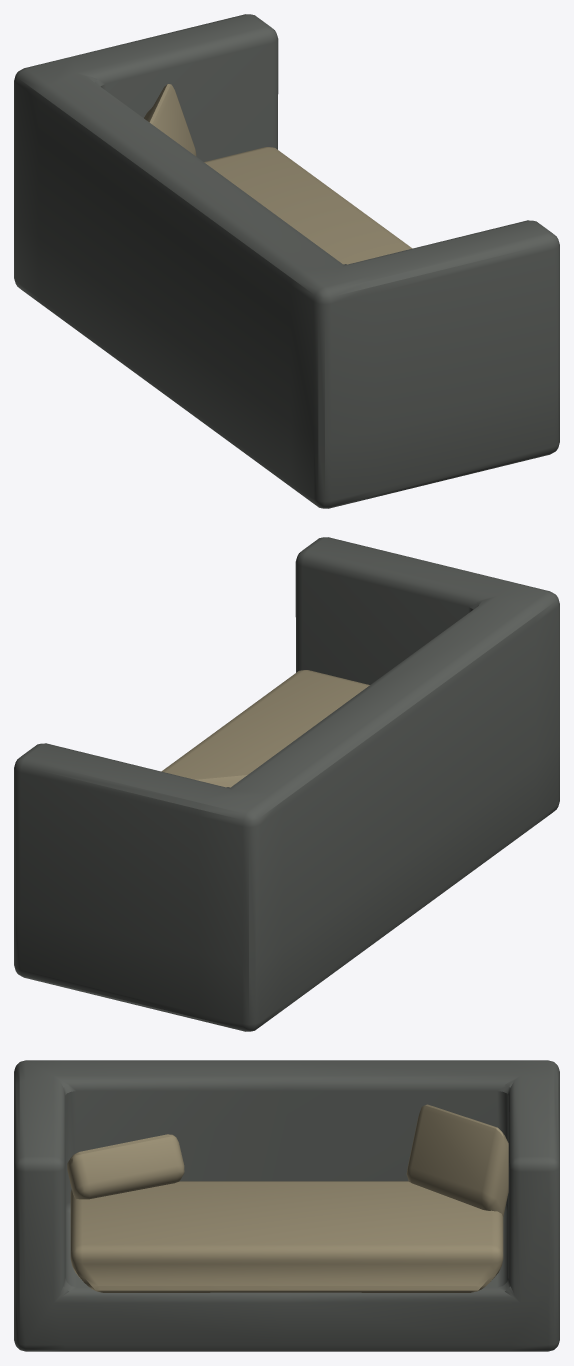
The model's file is Sofa_grande.fbx.
3 renders of one model, top to bottom at view 1: azimuth 30°, elevation 25°; view 2: azimuth 150°, elevation 25°; view 3: azimuth 270°, elevation 25°, orthographic. The views are drawn at different scales.
Visible parts, largest first — view 1: Plane; view 2: Plane; view 3: Plane.
Part boxes in pixels (x1,y1,x2,y2): Plane: [14, 14, 559, 508]; Plane: [14, 537, 559, 1031]; Plane: [14, 1060, 559, 1351].
Bounding box in the file's own units: 190 × 164 × 418.
